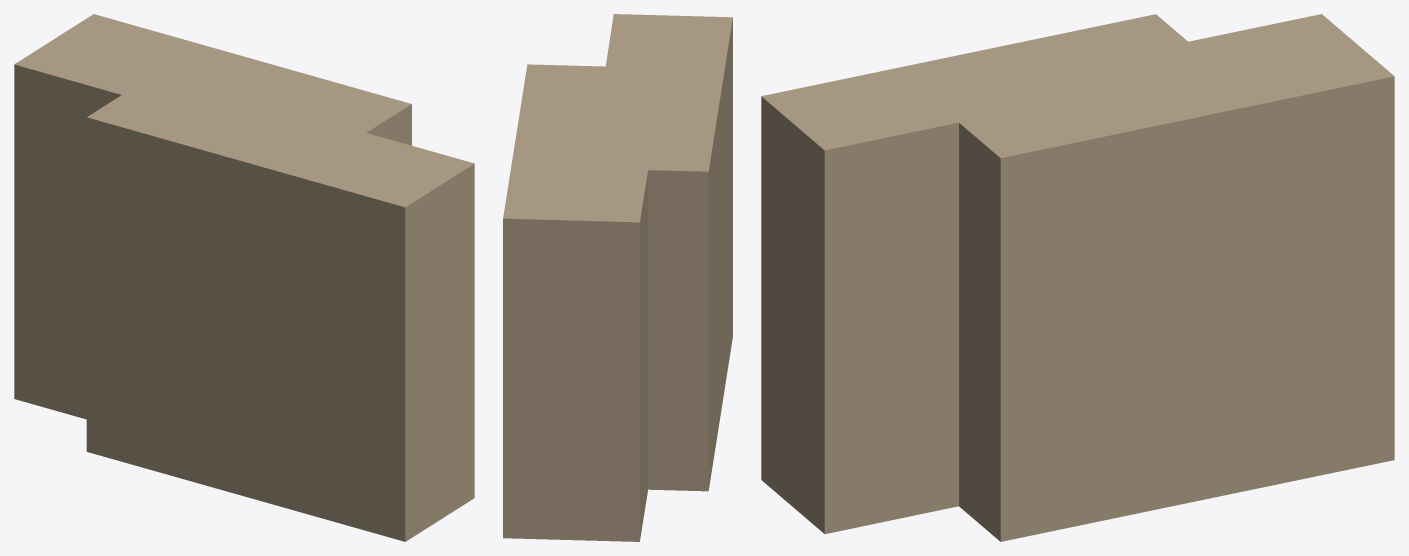
File: bld_106415385.dae
3 views of the same model, side by side, from view 1: azimuth 30°, elevation 25°; view 2: azimuth 150°, elevation 25°; view 3: azimuth 270°, elevation 25° (orthographic). The views are drawn at different scales.
Visible parts, largest first — view 1: bld_106415385; view 2: bld_106415385; view 3: bld_106415385.
Part boxes in pixels (x1,y1,x2,y2): bld_106415385: (14, 14, 474, 541); bld_106415385: (503, 14, 732, 541); bld_106415385: (761, 14, 1394, 541).
Size of the model in its own units: 6.45 by 11.97 by 8.
